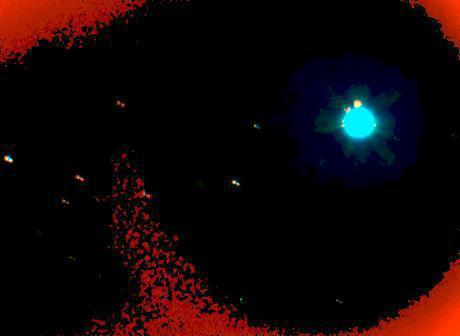star: (341, 88, 371, 118)
